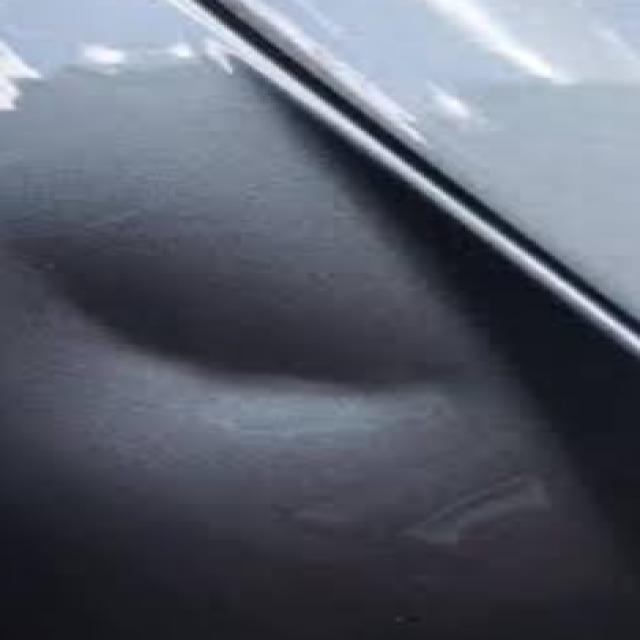dents: (0, 168, 516, 482)
